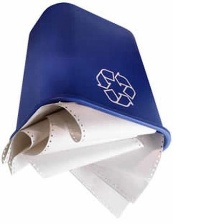news_paper: (0, 95, 169, 221)
